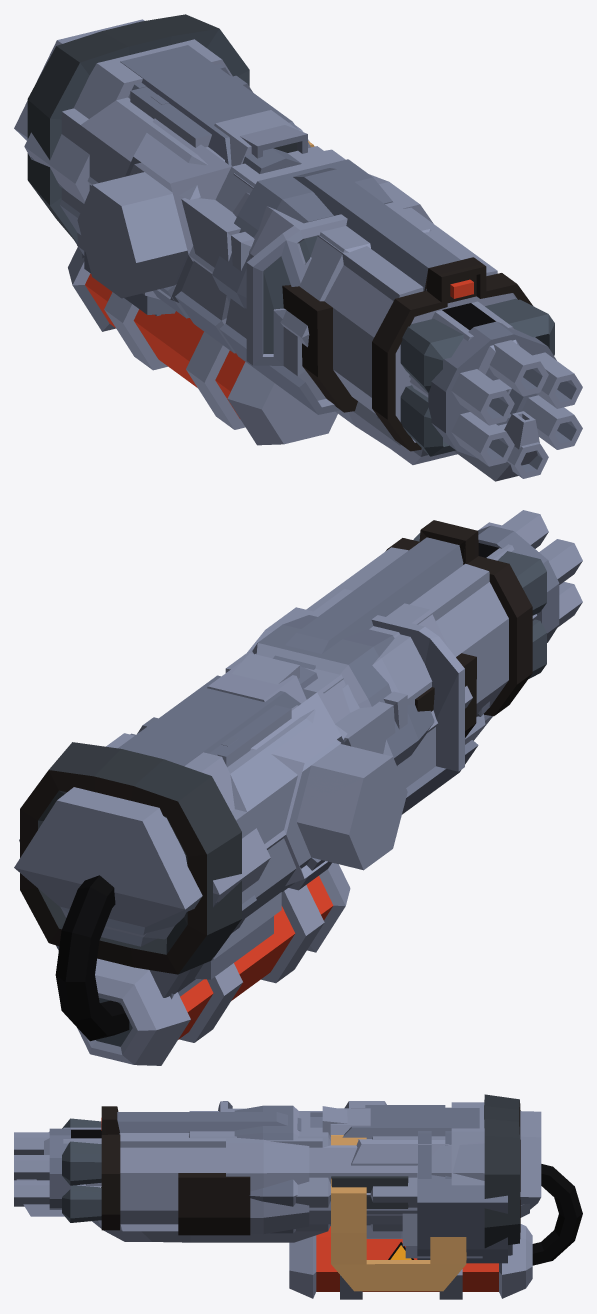
Rendered from Weapons.glb.
3 renders of one model, top to bottom at view 1: azimuth 30°, elevation 25°; view 2: azimuth 150°, elevation 25°; view 3: azimuth 270°, elevation 25°, orthographic. The views are drawn at different scales.
Parts seen in each view (by area): view 1: Rocket, Gatling, Cannon, Flame, Grenade, Flak; view 2: Rocket, Grenade, Flame, Cannon, Gatling, Flak; view 3: Rocket, Flak, Gatling, Flame, Grenade, Cannon.
Part boxes in pixels (x1,y1,x2,y2): Rocket: [27, 14, 532, 451]; Gatling: [77, 141, 582, 478]; Cannon: [61, 87, 428, 418]; Flame: [68, 64, 539, 481]; Grenade: [14, 19, 514, 464]; Flak: [82, 45, 554, 456]; Rocket: [20, 520, 532, 974]; Grenade: [14, 544, 514, 997]; Flame: [55, 543, 498, 1065]; Cannon: [210, 614, 537, 917]; Gatling: [194, 510, 582, 979]; Flak: [19, 533, 546, 999]; Rocket: [100, 1094, 520, 1248]; Flak: [62, 1108, 529, 1263]; Gatling: [14, 1101, 482, 1291]; Flame: [16, 1107, 582, 1299]; Grenade: [63, 1102, 541, 1255]; Cannon: [218, 1101, 449, 1215].
Bounding box in the file's own units: 0.4831 × 0.5563 × 1.6.
1 material, 1 textured.
